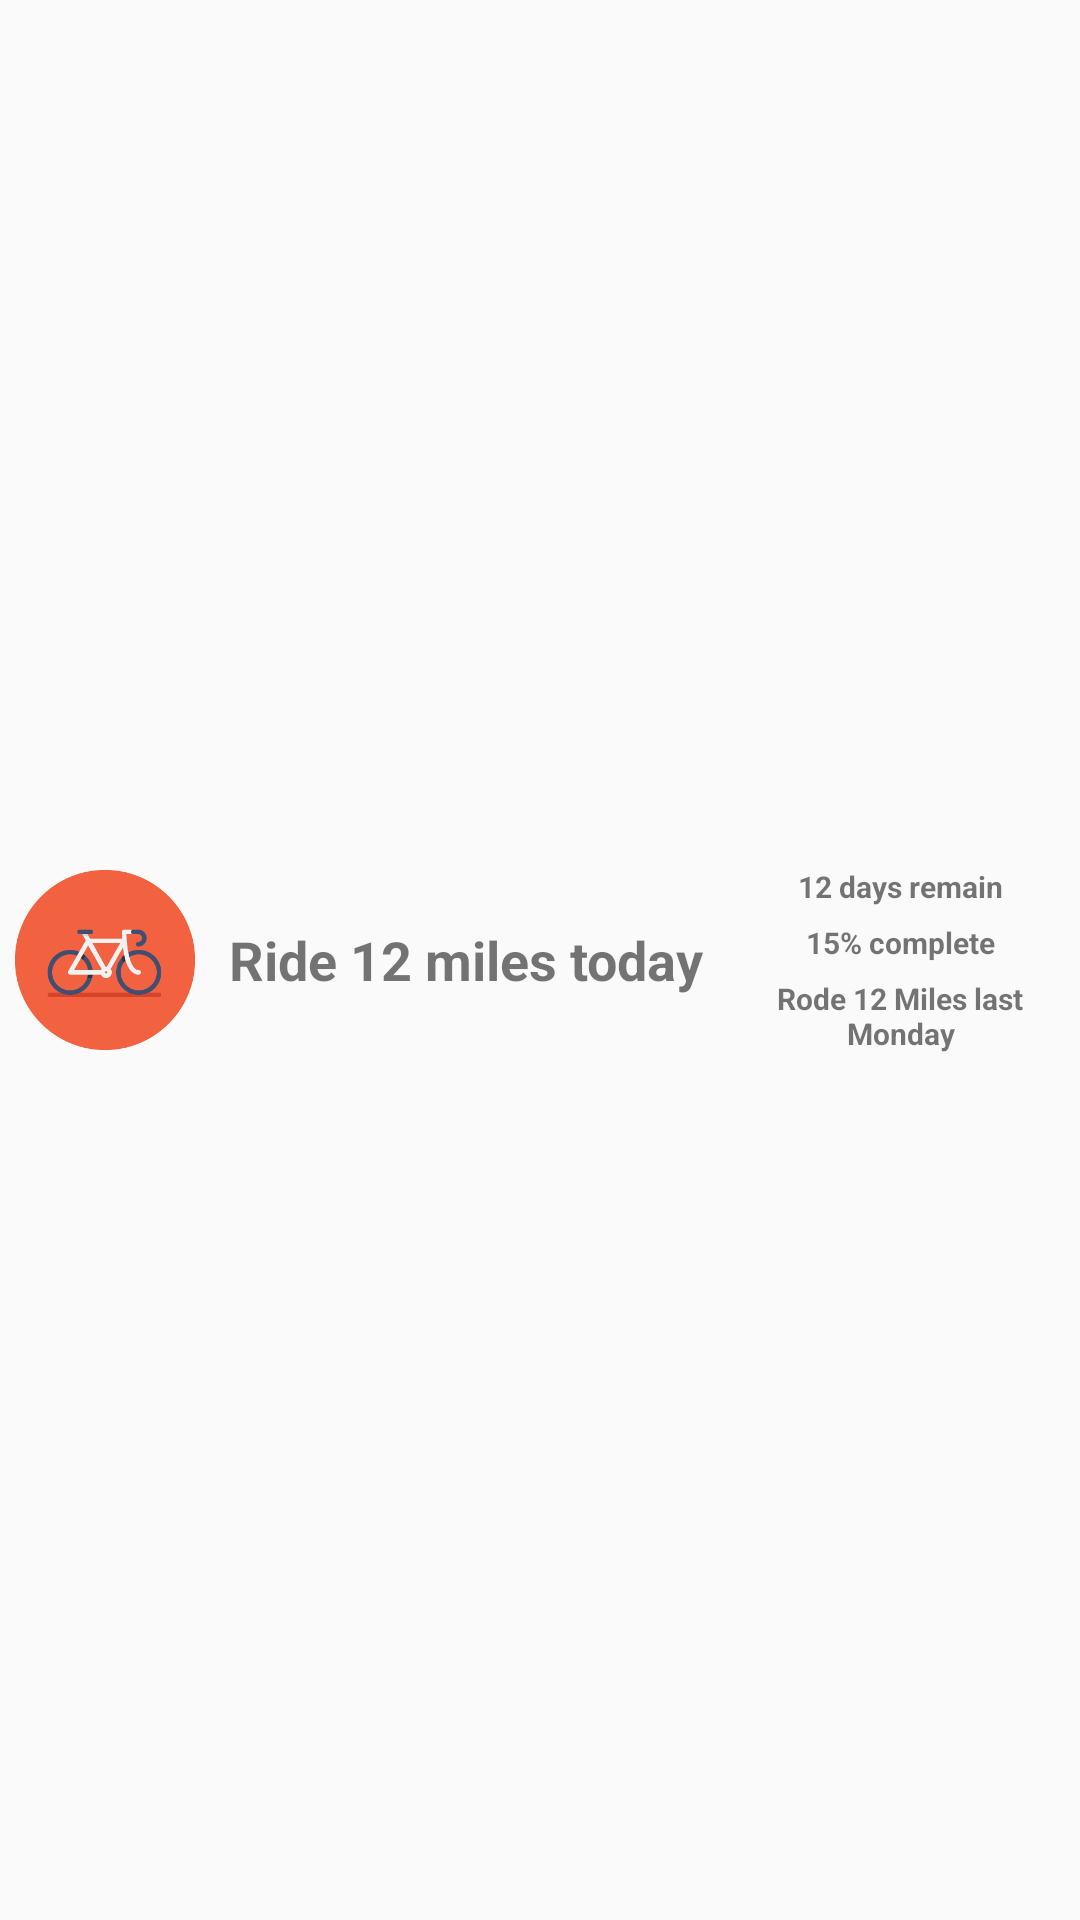

Icon click points for this 1080px x 1920px phone screenshot, format (x,y):
bike: (105,960)
